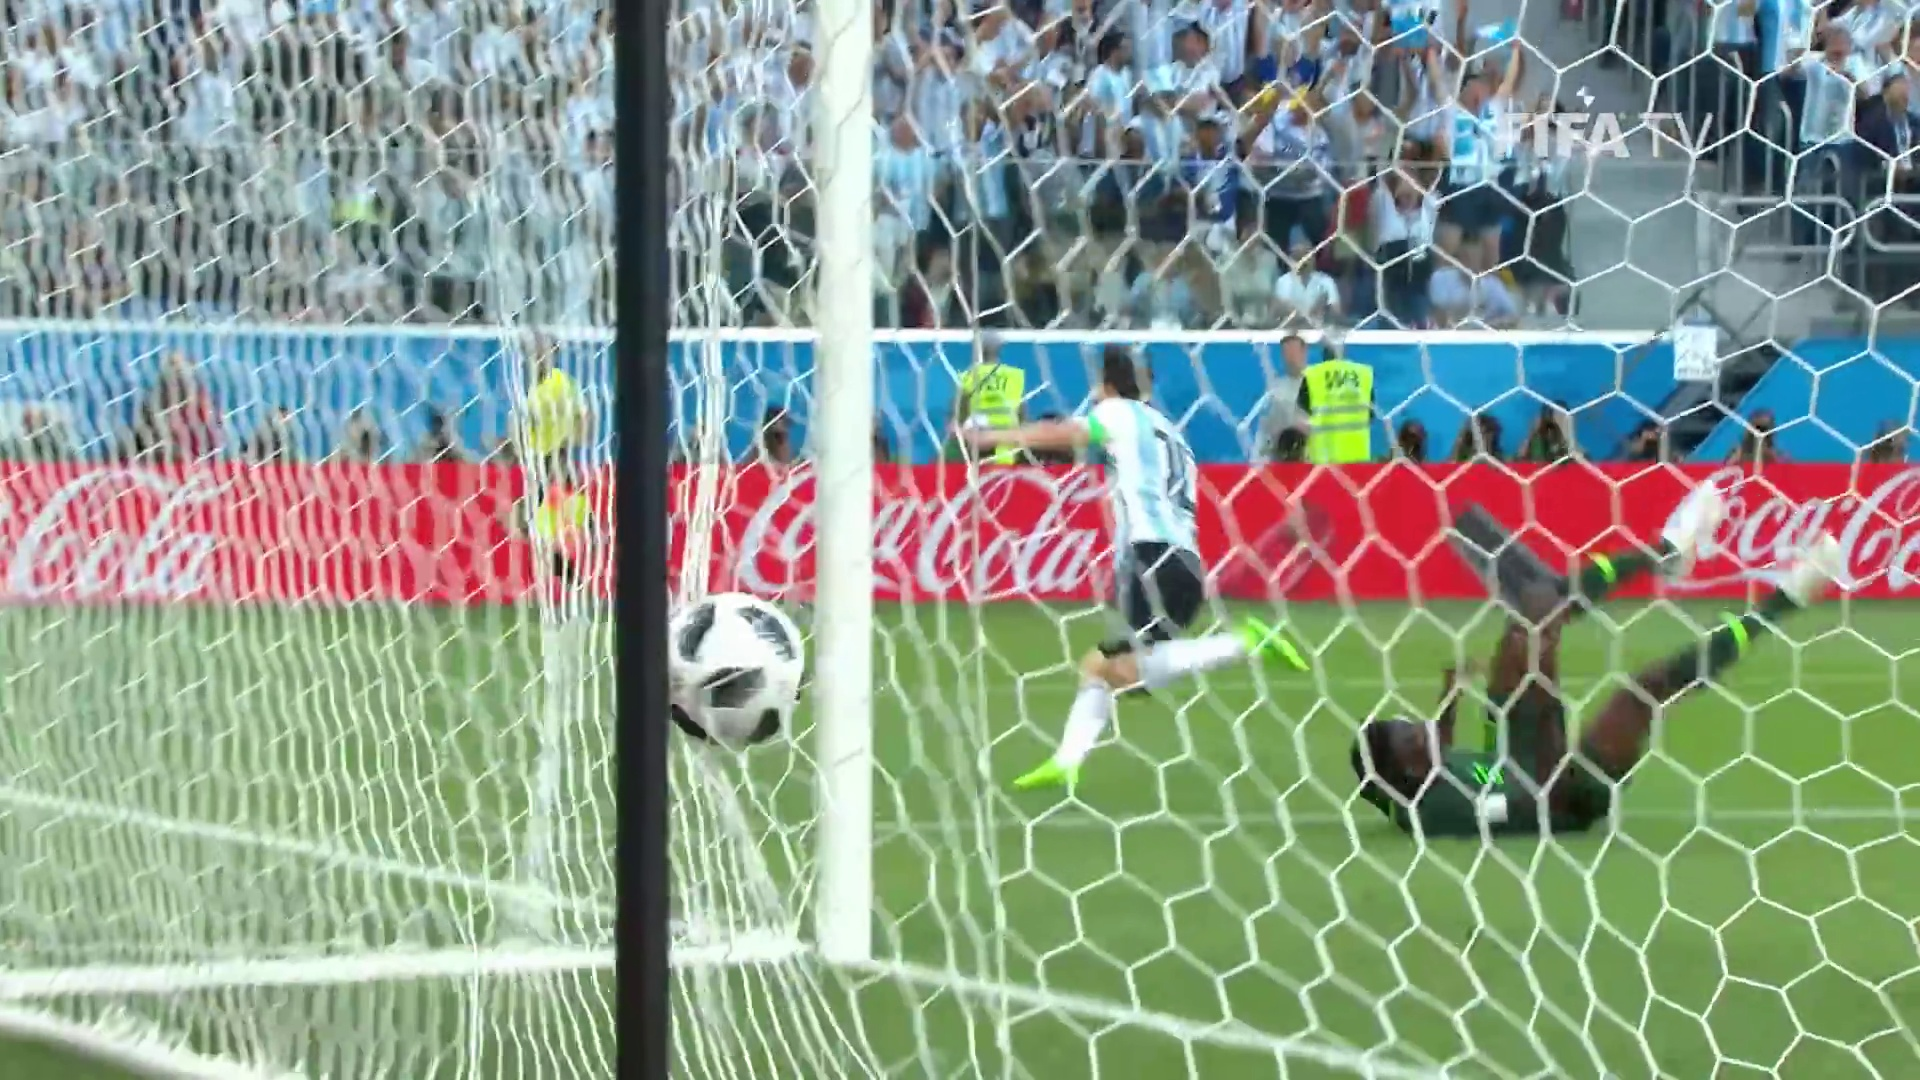ball: (671, 592, 801, 737)
person: (1352, 484, 1832, 843), (954, 351, 1303, 790)
